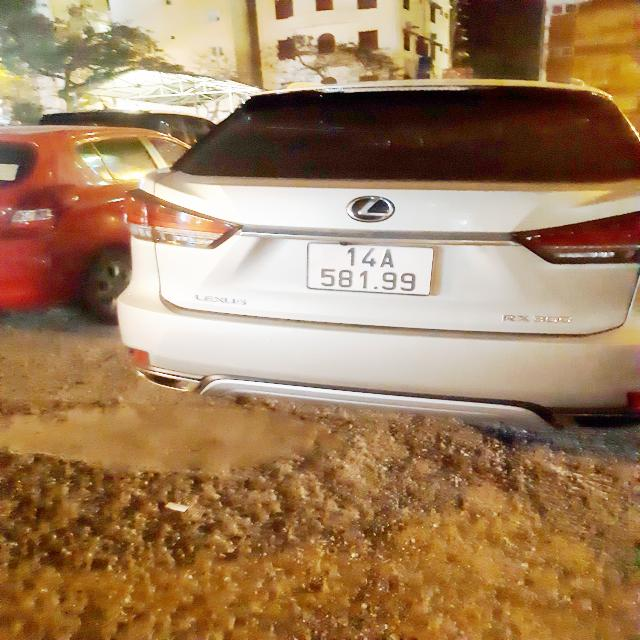license_plate: (303, 237, 441, 302)
